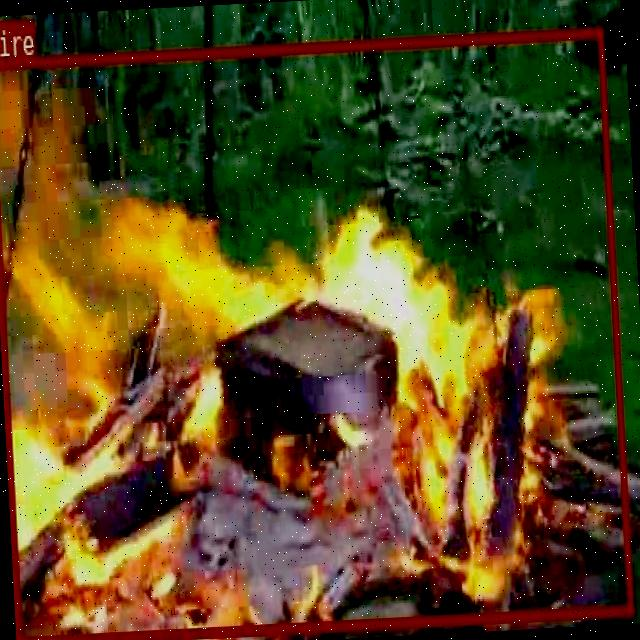fire: (0, 26, 632, 640)
